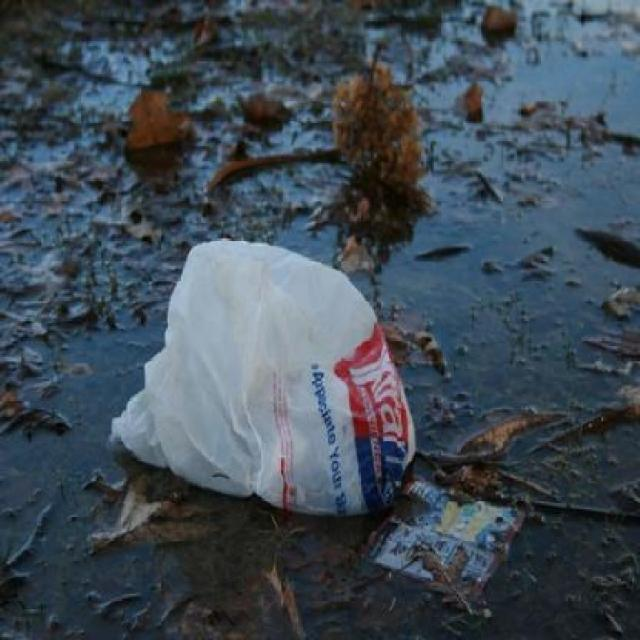plastic bag: (110, 237, 416, 515)
